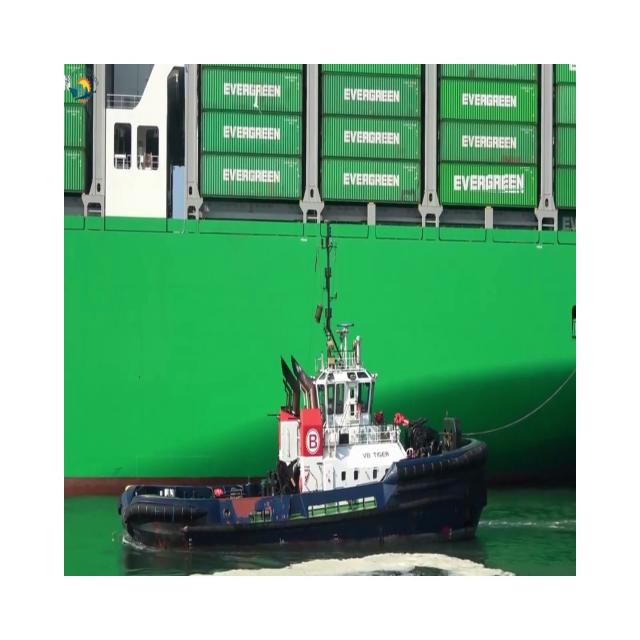OCR: (445, 167, 530, 195)
